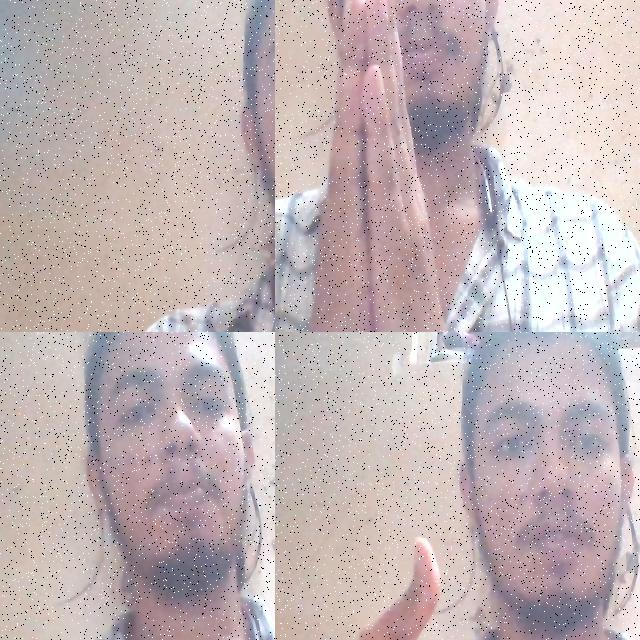Thank You: (275, 0, 495, 332)
Yes: (275, 525, 518, 640)
